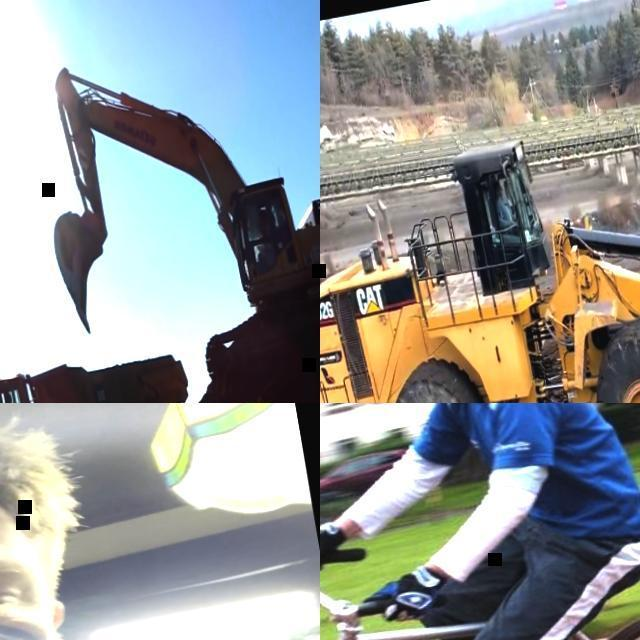no_helmet: (493, 182, 502, 192)
